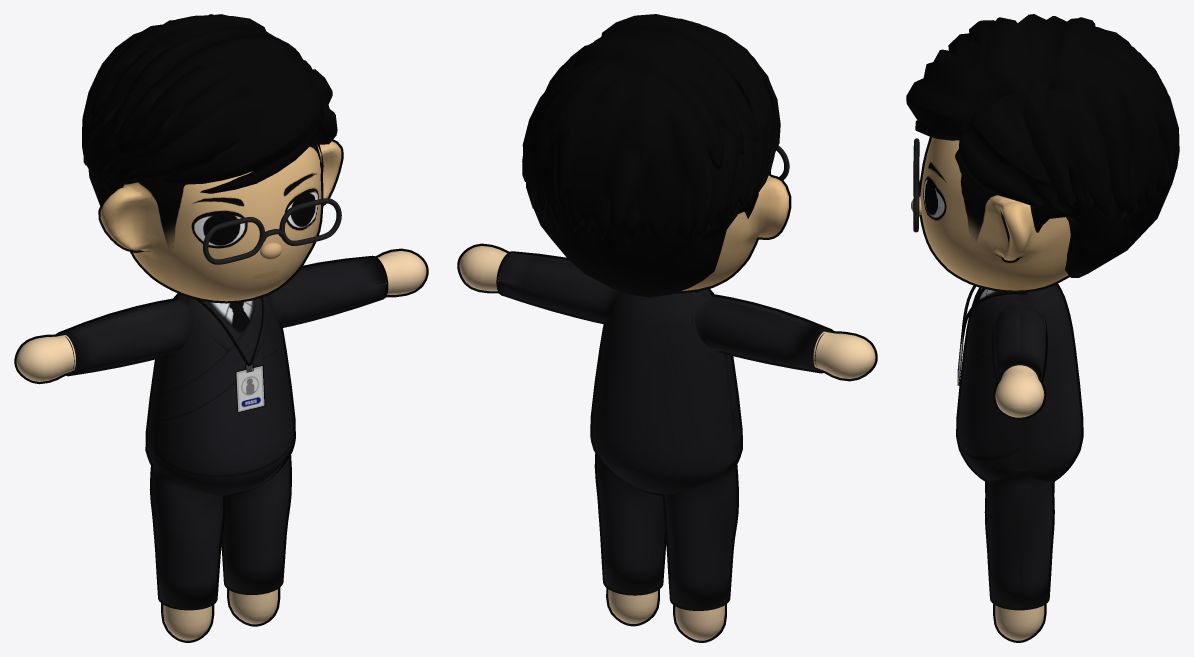
Rendered from Character 2.fbx.
3 views of the same model, side by side, from view 1: azimuth 30°, elevation 25°; view 2: azimuth 150°, elevation 25°; view 3: azimuth 270°, elevation 25° (orthographic).
Visible parts, largest first — view 1: Suit, Base_HairBoy33, Head, Body, Glasses, Id Card; view 2: Base_HairBoy33, Suit, Body, Head; view 3: Base_HairBoy33, Suit, Head, Body, Glasses, Id Card.
Part boxes in pixels (x1,y1,x2,y2): Suit: [56, 255, 388, 610]; Base_HairBoy33: [82, 14, 337, 205]; Head: [98, 138, 343, 303]; Body: [14, 248, 428, 642]; Glasses: [203, 198, 341, 264]; Id Card: [195, 297, 265, 412]; Base_HairBoy33: [522, 14, 780, 297]; Suit: [496, 251, 833, 610]; Body: [457, 243, 877, 642]; Head: [673, 170, 791, 293]; Base_HairBoy33: [906, 14, 1179, 277]; Suit: [956, 283, 1083, 610]; Head: [919, 136, 1070, 292]; Body: [993, 365, 1046, 642]; Glasses: [913, 138, 919, 232]; Id Card: [957, 285, 1027, 385].
Size of the model in its own units: 296 by 413 by 171.
